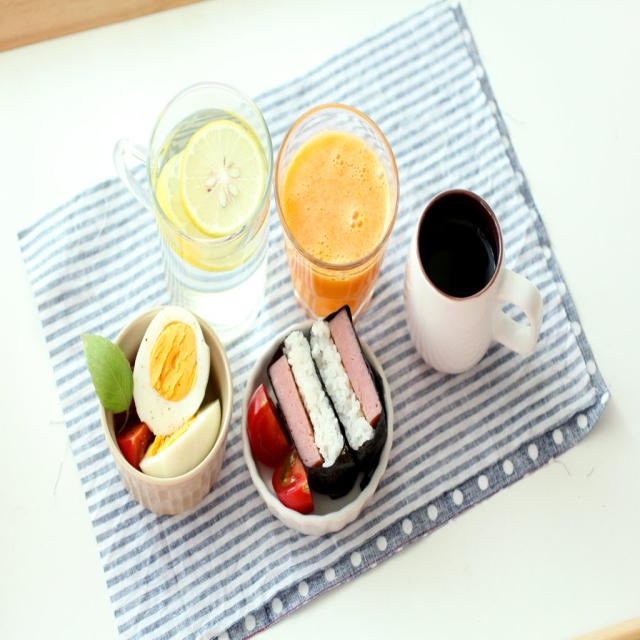Lemon: (174, 119, 269, 244)
